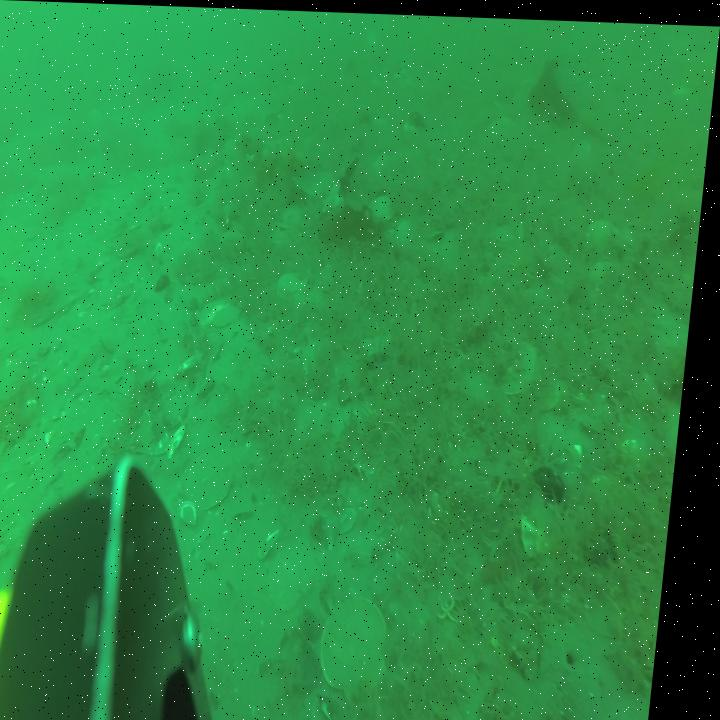scallop: (331, 589, 407, 700), (282, 535, 328, 609), (195, 445, 248, 505), (506, 334, 546, 392), (206, 295, 247, 326), (105, 280, 139, 310), (370, 188, 399, 221), (282, 268, 312, 298)
